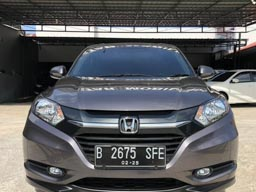plat: (95, 145, 167, 160)
